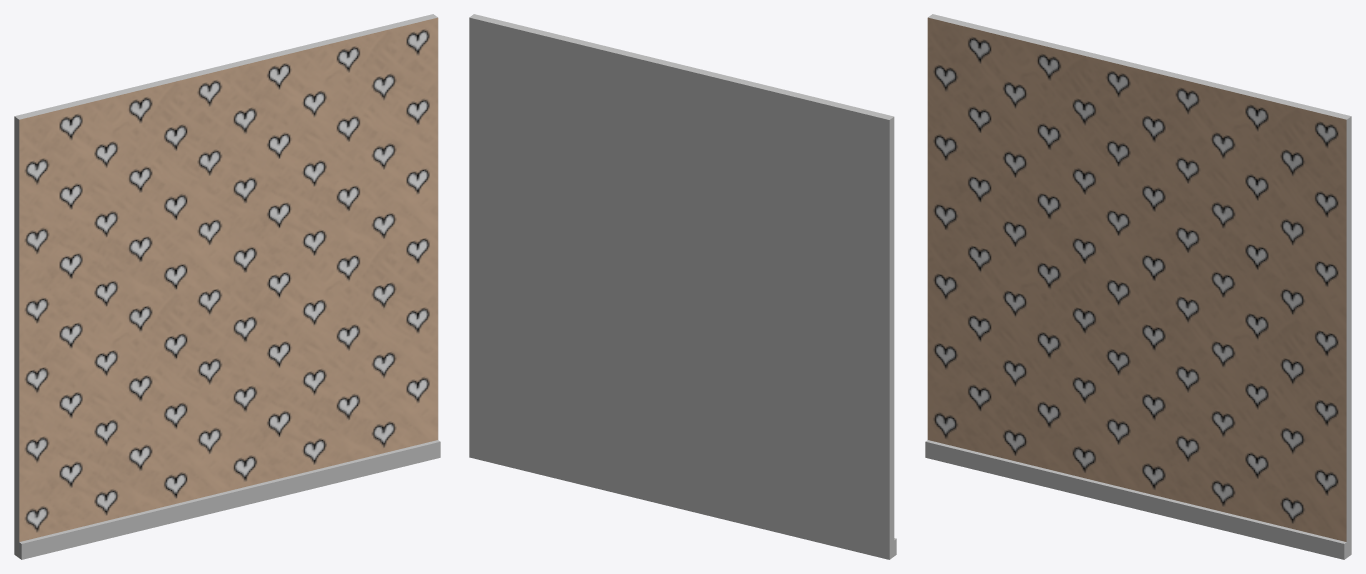
Rendered from Wall_WP_04.FBX.
3 renders of one model, left to right at view 1: azimuth 30°, elevation 25°; view 2: azimuth 150°, elevation 25°; view 3: azimuth 330°, elevation 25°, orthographic.
Visible parts, largest first — view 1: Wall_WP_01_5m; view 2: Wall_WP_01_5m; view 3: Wall_WP_01_5m.
Part boxes in pixels (box(x1,y1,x2,y2)): Wall_WP_01_5m: box(14, 14, 440, 559); Wall_WP_01_5m: box(469, 14, 896, 559); Wall_WP_01_5m: box(925, 14, 1351, 559).
Bounding box in the file's own units: 19685 × 19685 × 591.
